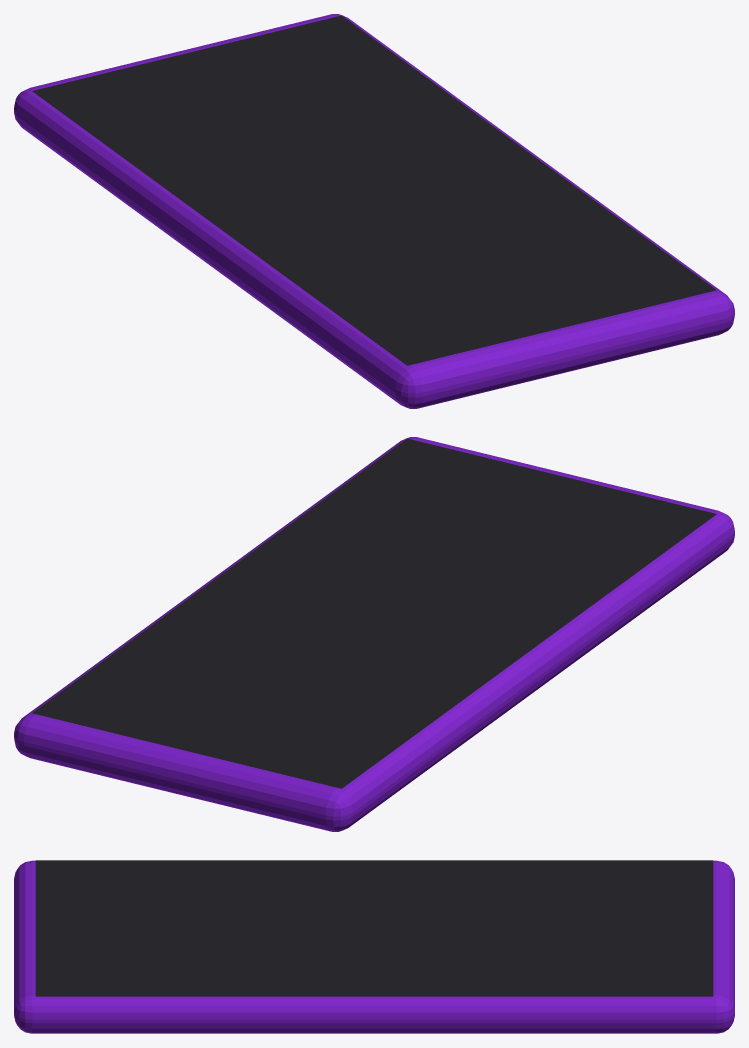
Rendered from Phone_168.glb.
The picture shows the model from 3 angles, top to bottom: view 1: azimuth 30°, elevation 25°; view 2: azimuth 150°, elevation 25°; view 3: azimuth 270°, elevation 25°; orthographic projection. The views are drawn at different scales.
Visible parts, largest first — view 1: Phone_Screen, Phone_Body; view 2: Phone_Screen, Phone_Body; view 3: Phone_Screen, Phone_Body.
Part boxes in pixels (bbox=[...]): Phone_Screen: bbox=[32, 15, 716, 365]; Phone_Body: bbox=[14, 14, 734, 408]; Phone_Screen: bbox=[32, 438, 716, 788]; Phone_Body: bbox=[14, 437, 734, 831]; Phone_Screen: bbox=[35, 860, 713, 996]; Phone_Body: bbox=[14, 860, 734, 1033].
Size of the model in its own units: 0.0727 by 0.0085 by 0.1493.
